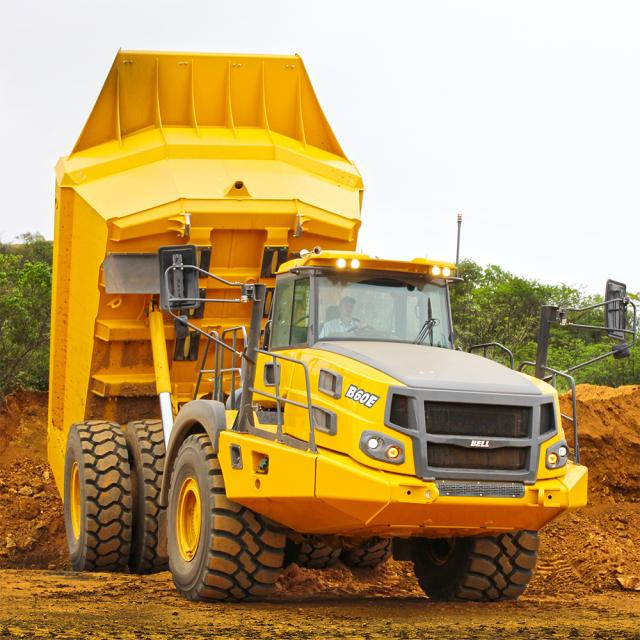dump_truck: (22, 37, 596, 608)
